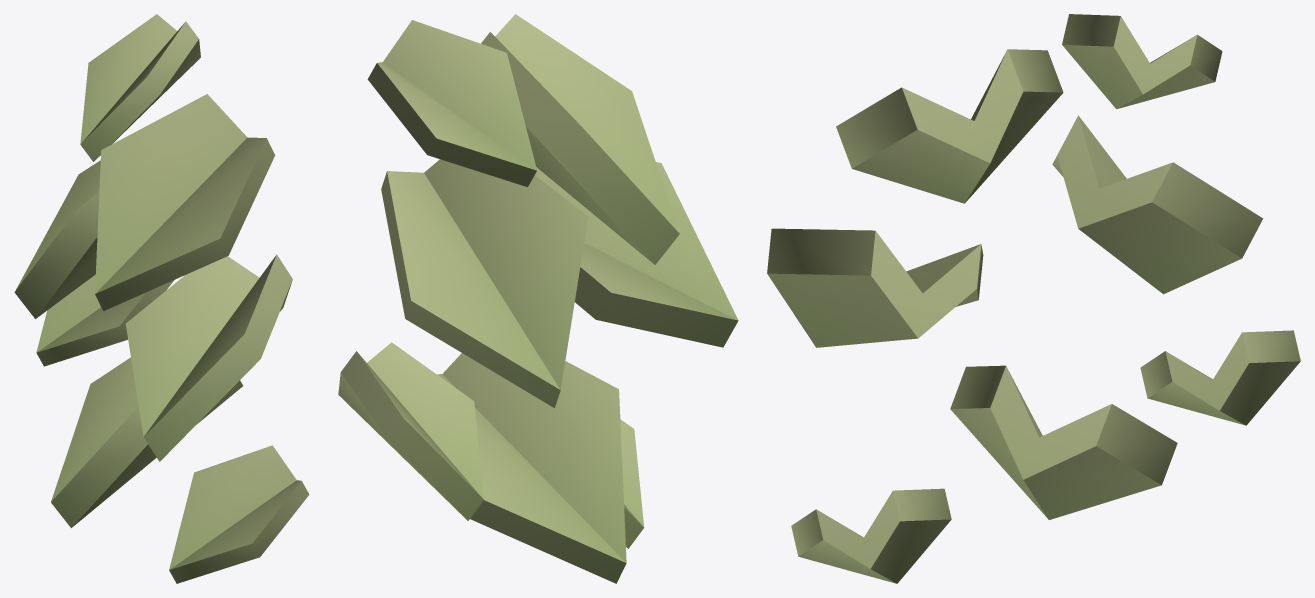
File: wall-plant (%wall).glb
The picture shows the model from 3 angles, left to right: view 1: azimuth 30°, elevation 25°; view 2: azimuth 150°, elevation 25°; view 3: azimuth 270°, elevation 25°; orthographic projection. The views are drawn at different scales.
Parts seen in each view (by area): view 1: wall-plant (%wall); view 2: wall-plant (%wall); view 3: wall-plant (%wall).
Part boxes in pixels (bbox=[...]): wall-plant (%wall): bbox=[14, 14, 309, 583]; wall-plant (%wall): bbox=[338, 14, 738, 583]; wall-plant (%wall): bbox=[767, 14, 1300, 583].
Bounding box in the file's own units: 0.1839 × 0.4665 × 0.3591.
